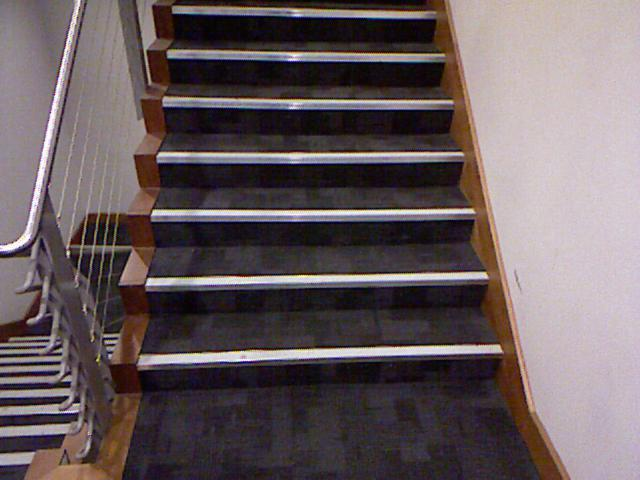Escaleras: (100, 0, 516, 393), (0, 320, 133, 479)
